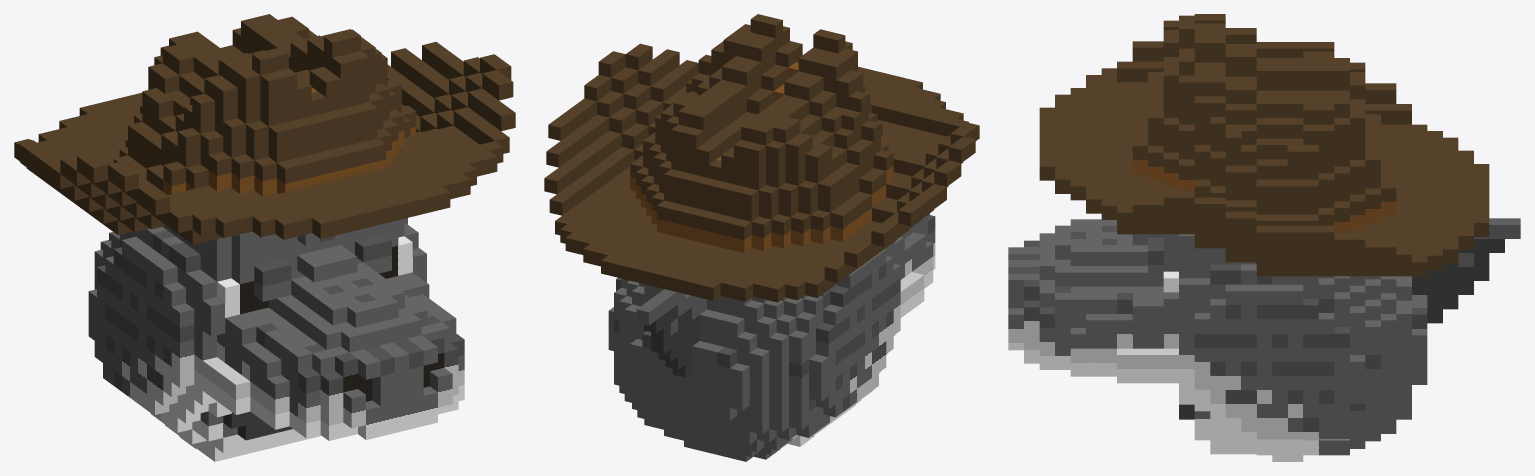
File: cowboy hat_skydiving goggles.gltf
3 views of the same model, side by side, from view 1: azimuth 30°, elevation 25°; view 2: azimuth 150°, elevation 25°; view 3: azimuth 270°, elevation 25° (orthographic). The views are drawn at different scales.
Parts seen in each view (by area): view 1: C12_H_CowboyH_RedG_RBShade-Mesh; view 2: C12_H_CowboyH_RedG_RBShade-Mesh; view 3: C12_H_CowboyH_RedG_RBShade-Mesh.
Boxes of the visible parts, x1,y1,x2,y2 form: C12_H_CowboyH_RedG_RBShade-Mesh: (14, 14, 515, 461); C12_H_CowboyH_RedG_RBShade-Mesh: (544, 14, 979, 461); C12_H_CowboyH_RedG_RBShade-Mesh: (1008, 14, 1520, 461).
Size of the model in its own units: 29 by 28 by 33.
1 material, 1 textured.
